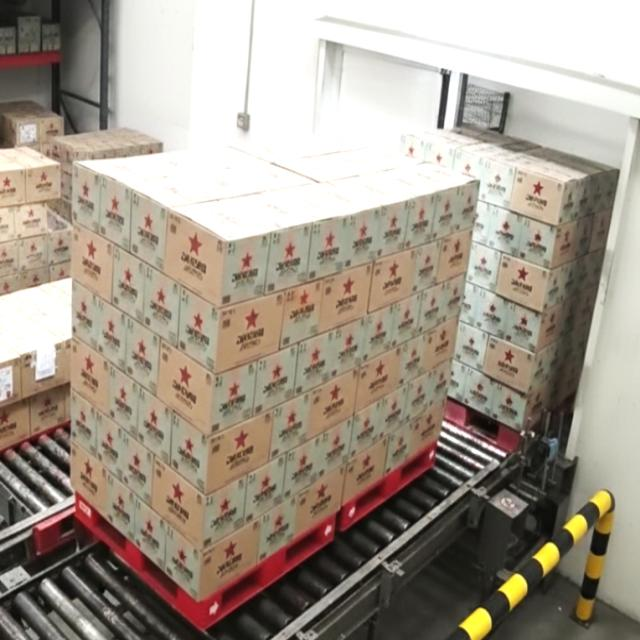pallet: (74, 147, 338, 632), (439, 115, 625, 471), (335, 120, 484, 549)
